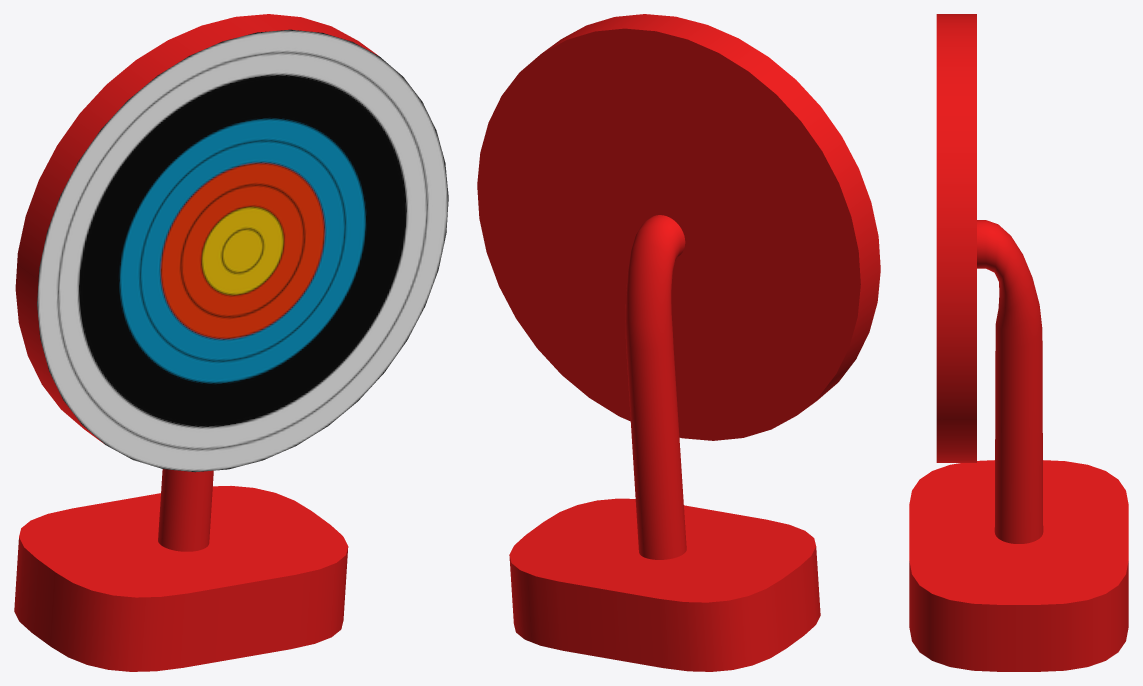
File: target.glb
3 views of the same model, side by side, from view 1: azimuth 30°, elevation 25°; view 2: azimuth 150°, elevation 25°; view 3: azimuth 270°, elevation 25° (orthographic). The views are drawn at different scales.
Parts seen in each view (by area): view 1: z; view 2: z; view 3: z.
Part boxes in pixels (x1,y1,x2,y2): z: (14,14,448,671); z: (477,14,880,671); z: (909,14,1128,671).
Size of the model in its own units: 93.79 by 134 by 45.77.
Materials: 2 (1 with a texture image).
